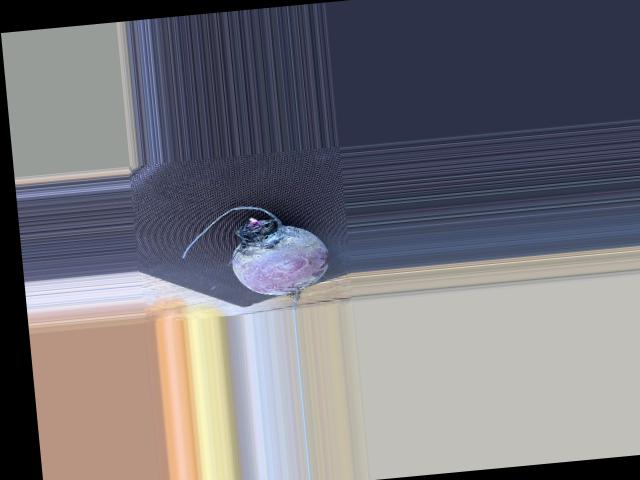beet: (178, 198, 334, 319)
